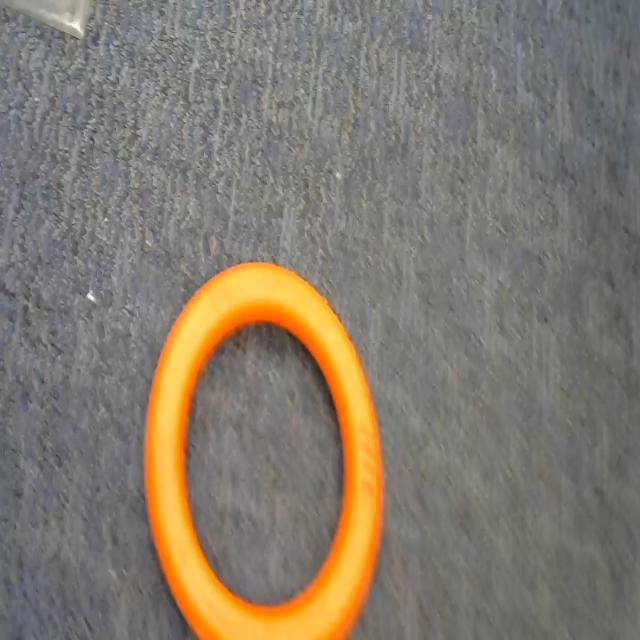note: (127, 238, 406, 640)
